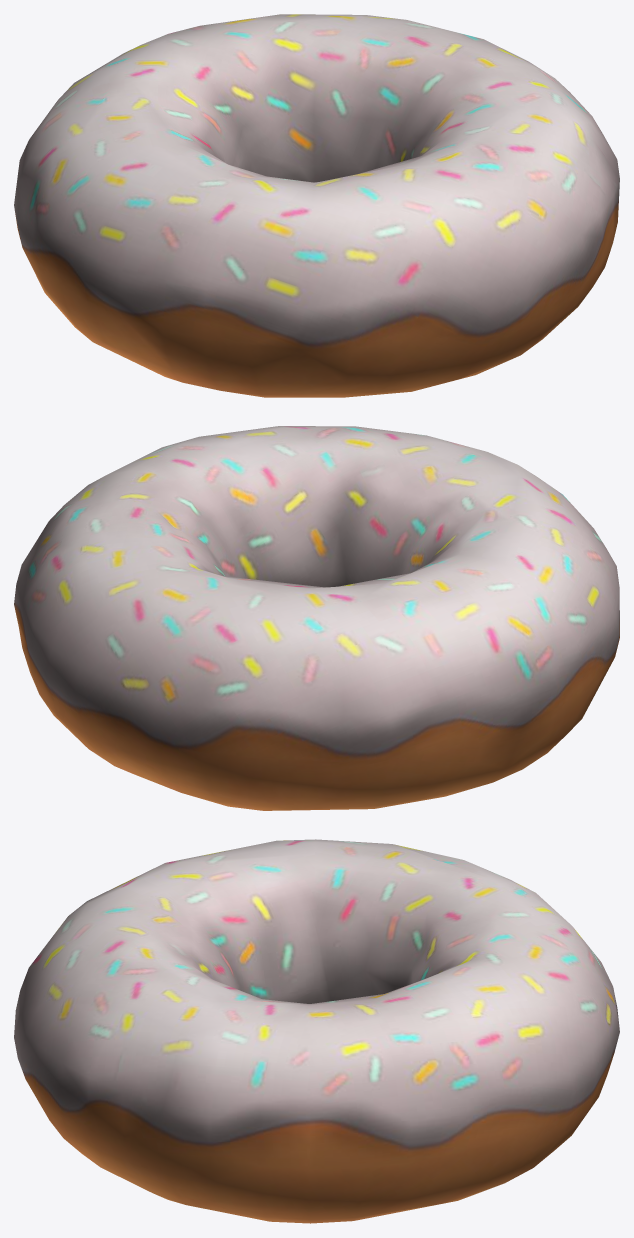
File: OBS0110266.fbx
3 views of the same model, one above another, from view 1: azimuth 30°, elevation 25°; view 2: azimuth 150°, elevation 25°; view 3: azimuth 270°, elevation 25° (orthographic).
Parts seen in each view (by area): view 1: smOBS0110266; view 2: smOBS0110266; view 3: smOBS0110266.
Boxes of the visible parts, box(x1,y1,x2,y2) form: smOBS0110266: box(14, 14, 619, 397); smOBS0110266: box(14, 426, 619, 810); smOBS0110266: box(14, 839, 619, 1223).
Size of the model in its own units: 50.65 by 19.18 by 51.42.
Materials: 1 (1 with a texture image).
